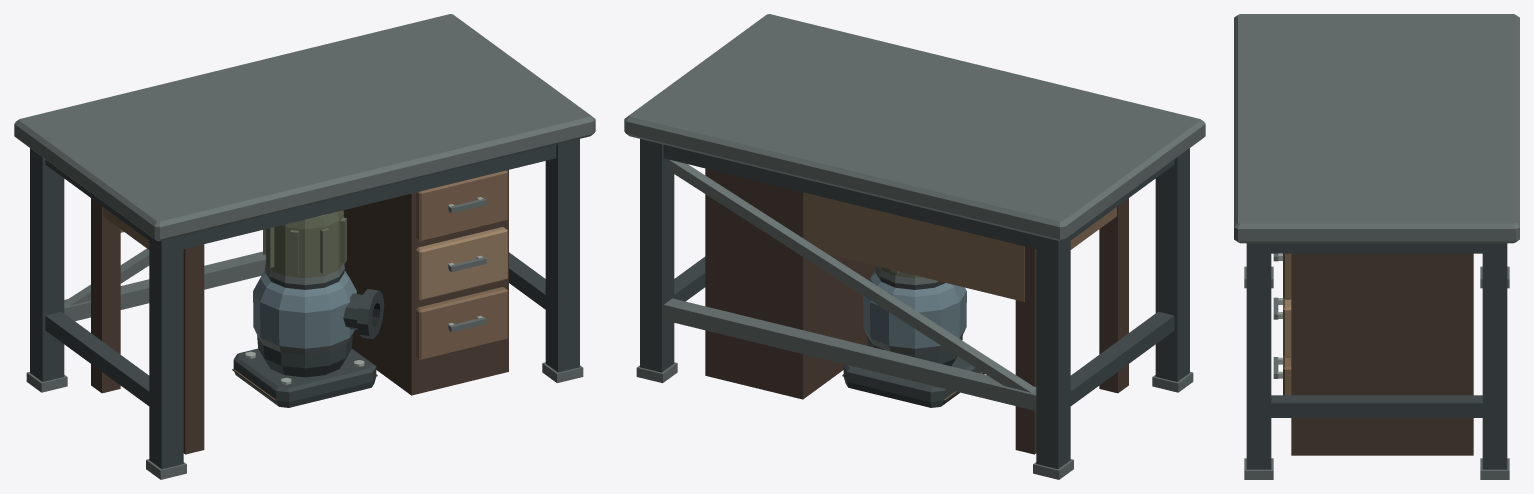
File: TurnerInterior_Assets.fbx
The picture shows the model from 3 angles, left to right: view 1: azimuth 30°, elevation 25°; view 2: azimuth 150°, elevation 25°; view 3: azimuth 270°, elevation 25°; orthographic projection.
Visible parts, largest first — view 1: Turner_RepairTable, Turner_OldDesk, Turner_VerticalDrainagePump; view 2: Turner_RepairTable, Turner_OldDesk, Turner_VerticalDrainagePump; view 3: Turner_RepairTable, Turner_OldDesk.
Boxes of the visible parts, left/top/right/bottom form: Turner_RepairTable: left=14, top=14, right=595, bottom=479; Turner_OldDesk: left=91, top=170, right=508, bottom=454; Turner_VerticalDrainagePump: left=233, top=210, right=384, bottom=407; Turner_RepairTable: left=624, top=14, right=1205, bottom=479; Turner_OldDesk: left=705, top=168, right=1128, bottom=454; Turner_VerticalDrainagePump: left=843, top=265, right=984, bottom=407; Turner_RepairTable: left=1234, top=14, right=1519, bottom=479; Turner_OldDesk: left=1273, top=253, right=1473, bottom=455.
Size of the model in its own units: 1.5 by 0.85 by 0.85.
